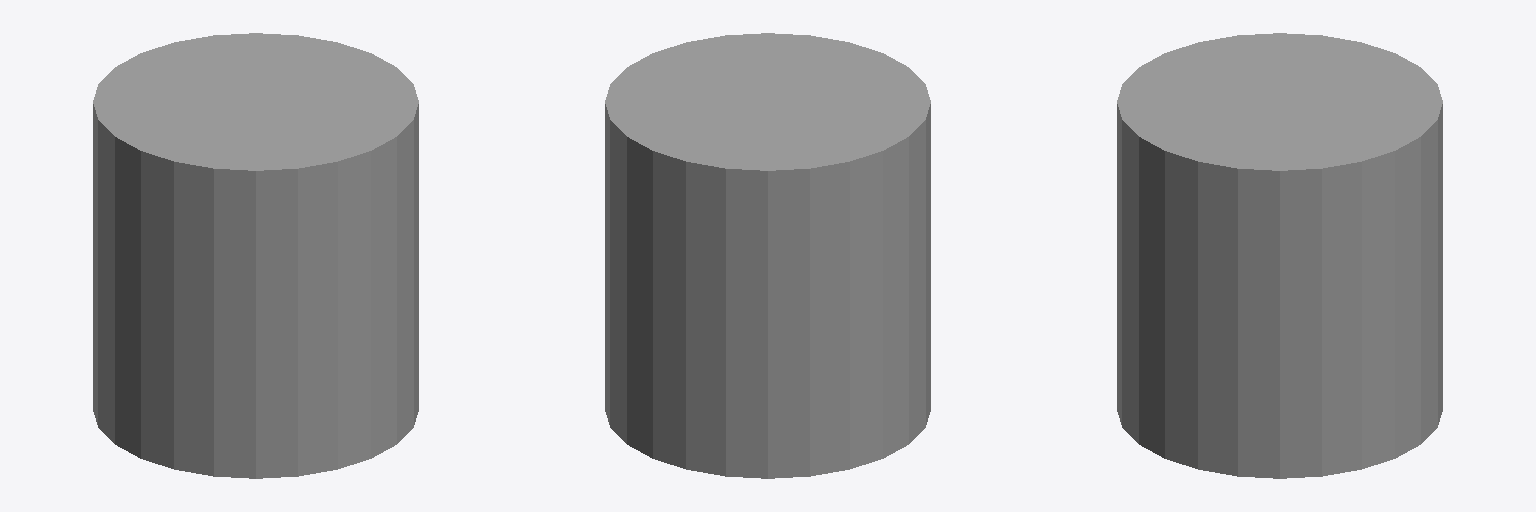
3 views of the same model, side by side, from view 1: azimuth 30°, elevation 25°; view 2: azimuth 150°, elevation 25°; view 3: azimuth 270°, elevation 25° (orthographic).
Visible parts, largest first — view 1: Non_subD; view 2: Non_subD; view 3: Non_subD.
Boxes of the visible parts, x1=… form: Non_subD: x1=93, y1=33, x2=418, y2=478; Non_subD: x1=605, y1=33, x2=930, y2=478; Non_subD: x1=1117, y1=33, x2=1442, y2=478.
Bounding box in the file's own units: 4.22 × 4.39 × 4.22.